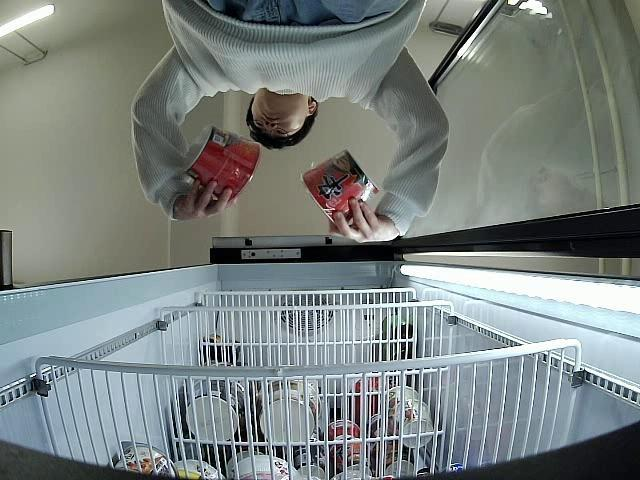01_ShinRamen_L: (302, 150, 378, 229), (182, 126, 260, 202)
